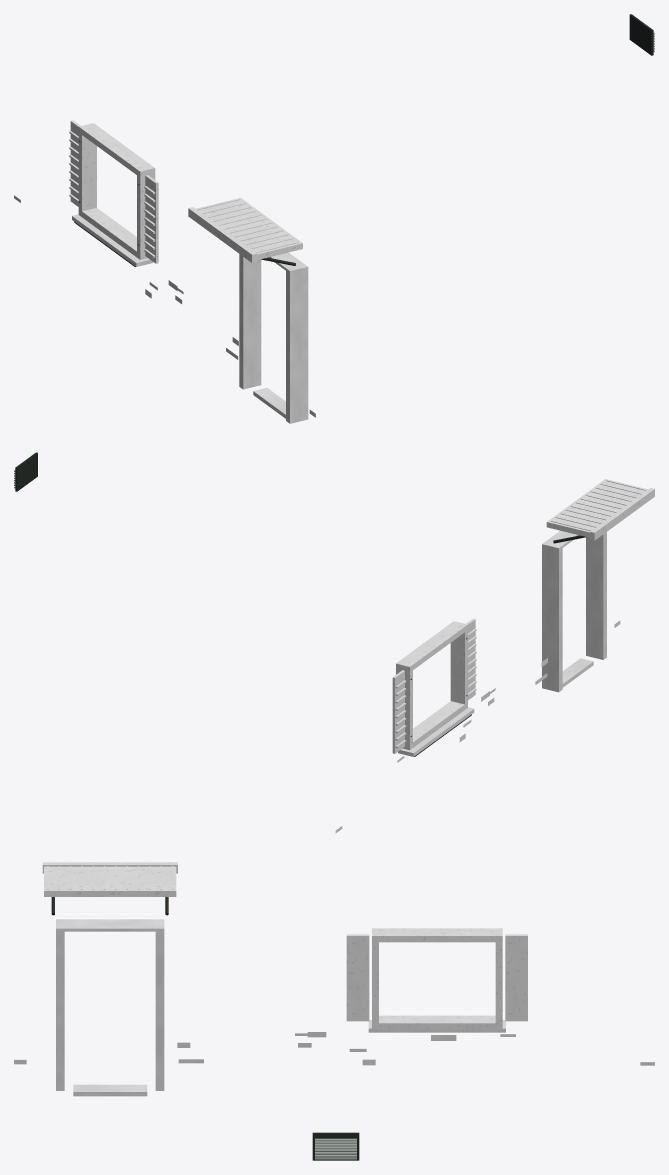
The model's file is SM_Homes_H02_Fixtures.glb.
3 views of the same model, one above another, from view 1: azimuth 30°, elevation 25°; view 2: azimuth 150°, elevation 25°; view 3: azimuth 270°, elevation 25° (orthographic). The views are drawn at different scales.
Visible parts, largest first — view 1: SM_Homes_H02_Fixtures; view 2: SM_Homes_H02_Fixtures; view 3: SM_Homes_H02_Fixtures.
Part boxes in pixels (box(x1,y1,x2,y2)): SM_Homes_H02_Fixtures: box(14, 14, 654, 423); SM_Homes_H02_Fixtures: box(14, 452, 654, 833); SM_Homes_H02_Fixtures: box(14, 862, 654, 1160).
Bounding box in the file's own units: 8.37 × 2.88 × 8.23.
6 materials, 4 textured.
